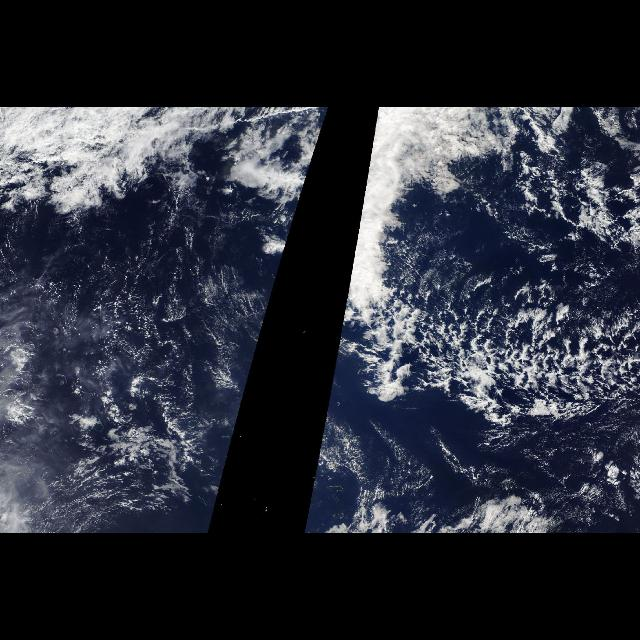Fish: (374, 290, 630, 408)
Gravel: (427, 268, 639, 430)
Sugar: (0, 233, 262, 529), (364, 292, 640, 450)
